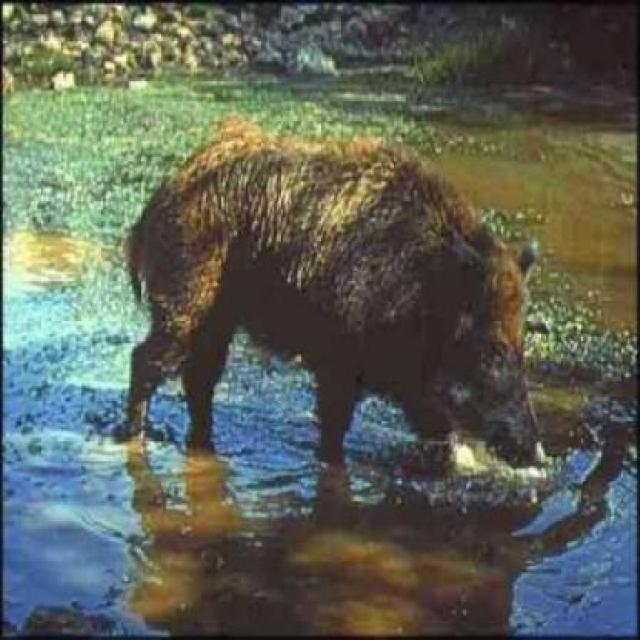pig: (80, 88, 548, 502)
